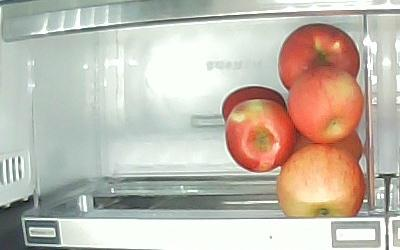apple: (276, 144, 366, 216), (288, 67, 363, 143), (278, 23, 360, 92), (223, 100, 296, 173), (222, 86, 288, 121), (295, 129, 363, 162)
